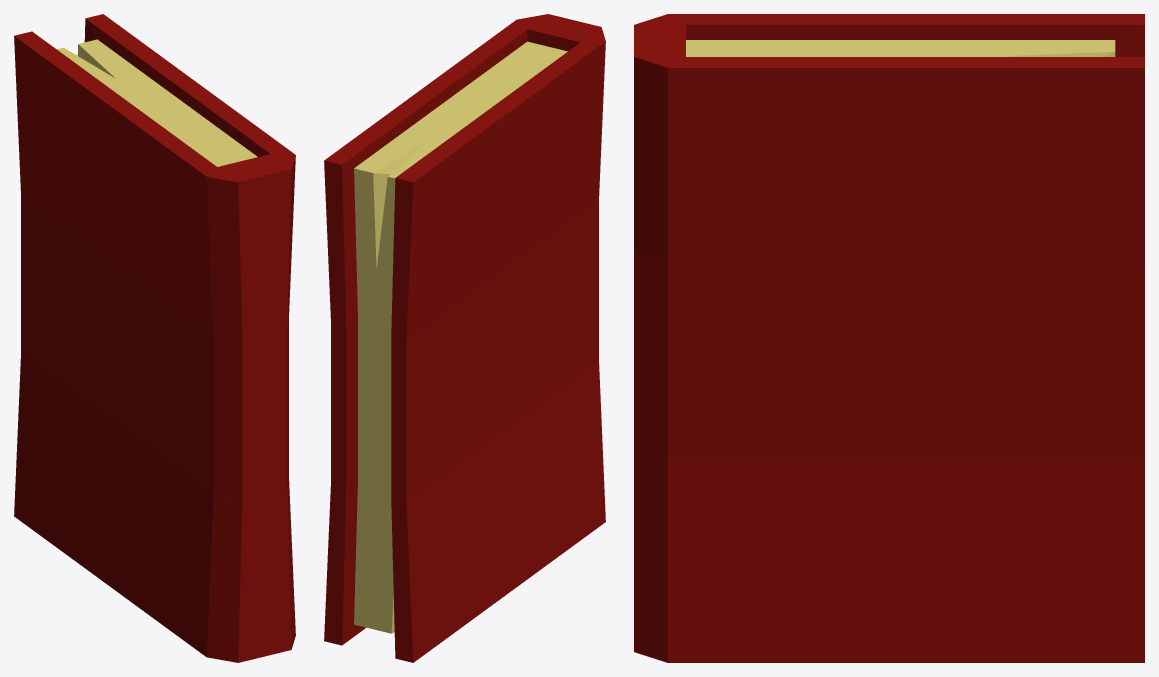
The model's file is book_1.obj.
The picture shows the model from 3 angles, left to right: view 1: azimuth 30°, elevation 25°; view 2: azimuth 150°, elevation 25°; view 3: azimuth 270°, elevation 25°; orthographic projection. The views are drawn at different scales.
Parts seen in each view (by area): view 1: book_1_Cube.037_clothRed, book_1_Cube.037_paperYellow; view 2: book_1_Cube.037_clothRed, book_1_Cube.037_paperYellow; view 3: book_1_Cube.037_clothRed, book_1_Cube.037_paperYellow.
Part boxes in pixels (x1=…): book_1_Cube.037_clothRed: x1=14, y1=14, x2=295, y2=662; book_1_Cube.037_paperYellow: x1=57, y1=39, x2=257, y2=166; book_1_Cube.037_clothRed: x1=324, y1=14, x2=605, y2=662; book_1_Cube.037_paperYellow: x1=354, y1=41, x2=567, y2=633; book_1_Cube.037_clothRed: x1=634, y1=14, x2=1144, y2=662; book_1_Cube.037_paperYellow: x1=686, y1=40, x2=1115, y2=56.
Bounding box in the file's own units: 0.0969 × 0.4984 × 0.3877.
